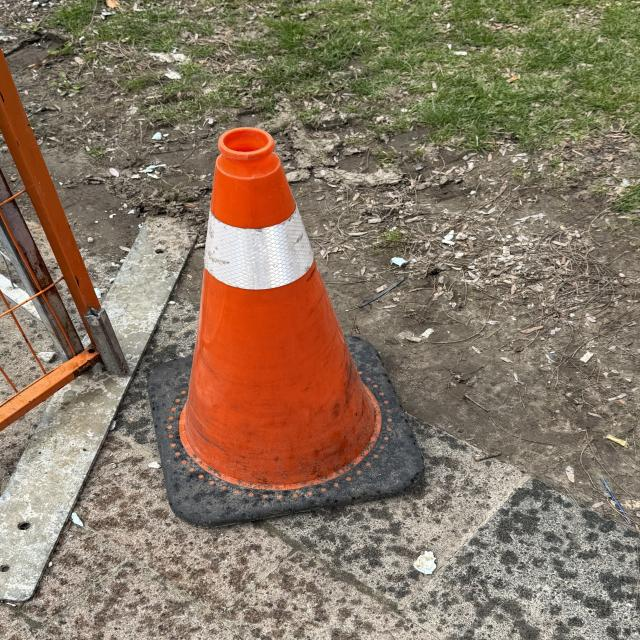Traffic Cone: (155, 127, 423, 529)
